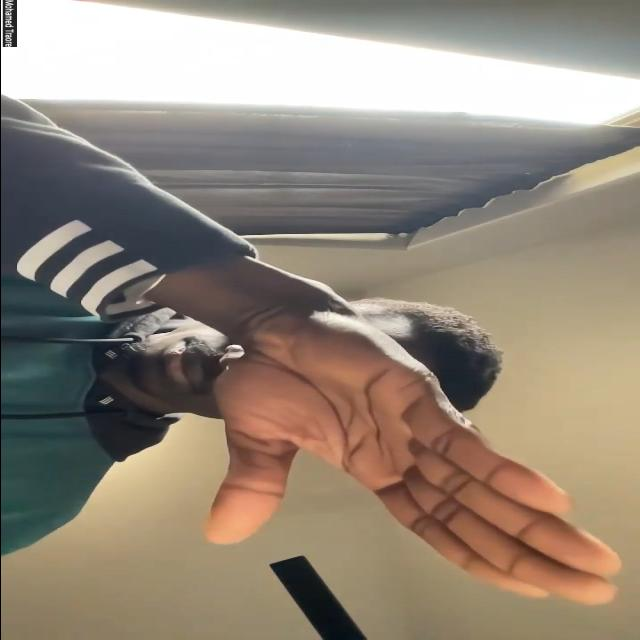Paper: (205, 314, 620, 604)
